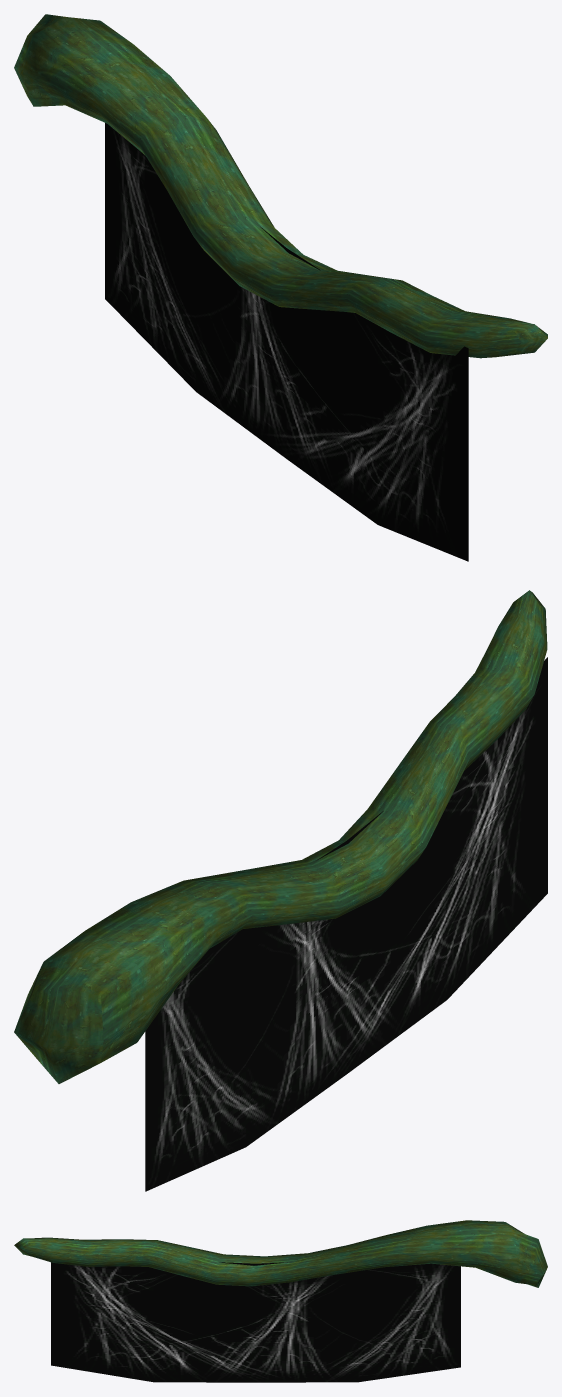
Rendered from INST_MIRK_BRANCH_WEB.fbx.
The picture shows the model from 3 angles, top to bottom: view 1: azimuth 30°, elevation 25°; view 2: azimuth 150°, elevation 25°; view 3: azimuth 270°, elevation 25°; orthographic projection. The views are drawn at different scales.
Visible parts, largest first — view 1: INST_MIRK_BRANCH_WEB; view 2: INST_MIRK_BRANCH_WEB; view 3: INST_MIRK_BRANCH_WEB.
Boxes of the visible parts, x1=… form: INST_MIRK_BRANCH_WEB: x1=14, y1=14, x2=547, y2=561; INST_MIRK_BRANCH_WEB: x1=14, y1=590, x2=547, y2=1191; INST_MIRK_BRANCH_WEB: x1=14, y1=1220, x2=547, y2=1382.
Size of the model in its own units: 15123 by 38506 by 119714.
Materials: 2 (2 with a texture image).
